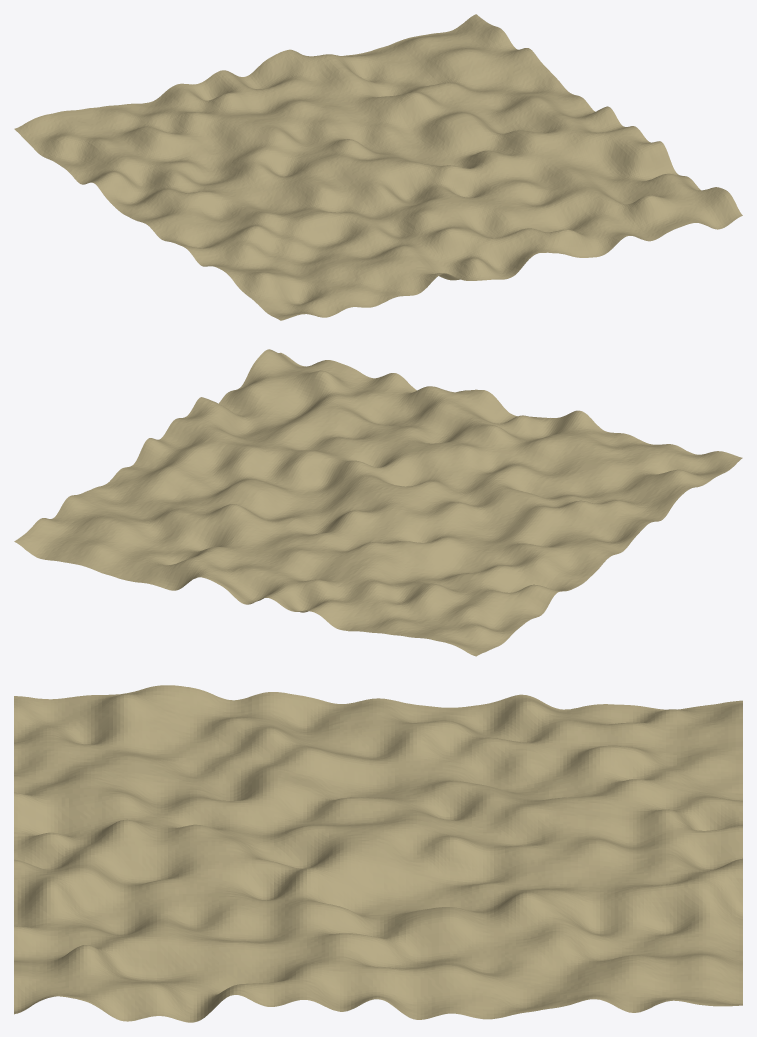
Rendered from terrain_mesh.obj.
3 views of the same model, one above another, from view 1: azimuth 30°, elevation 25°; view 2: azimuth 150°, elevation 25°; view 3: azimuth 270°, elevation 25° (orthographic). The views are drawn at different scales.
Size of the model in its own units: 200 by 11.29 by 200.
